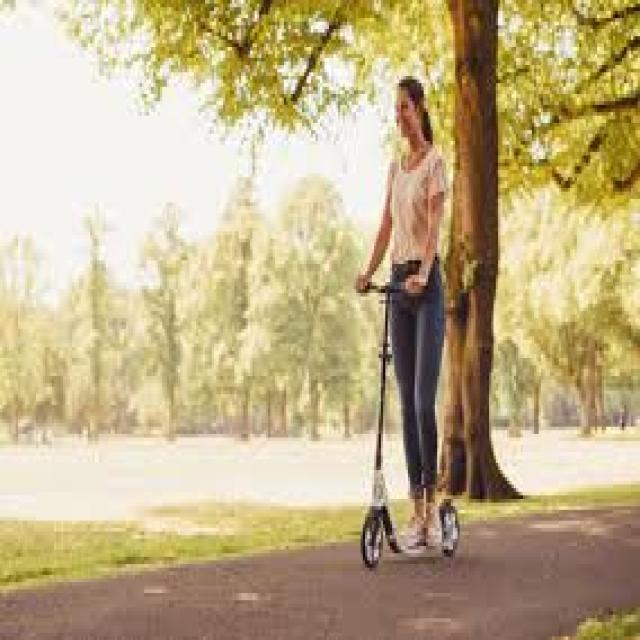non-helmet: (345, 62, 474, 578)
